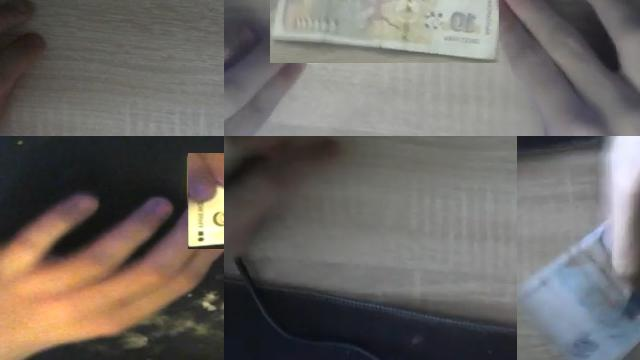10leva: (270, 0, 499, 63)
20leva: (517, 136, 640, 360)
